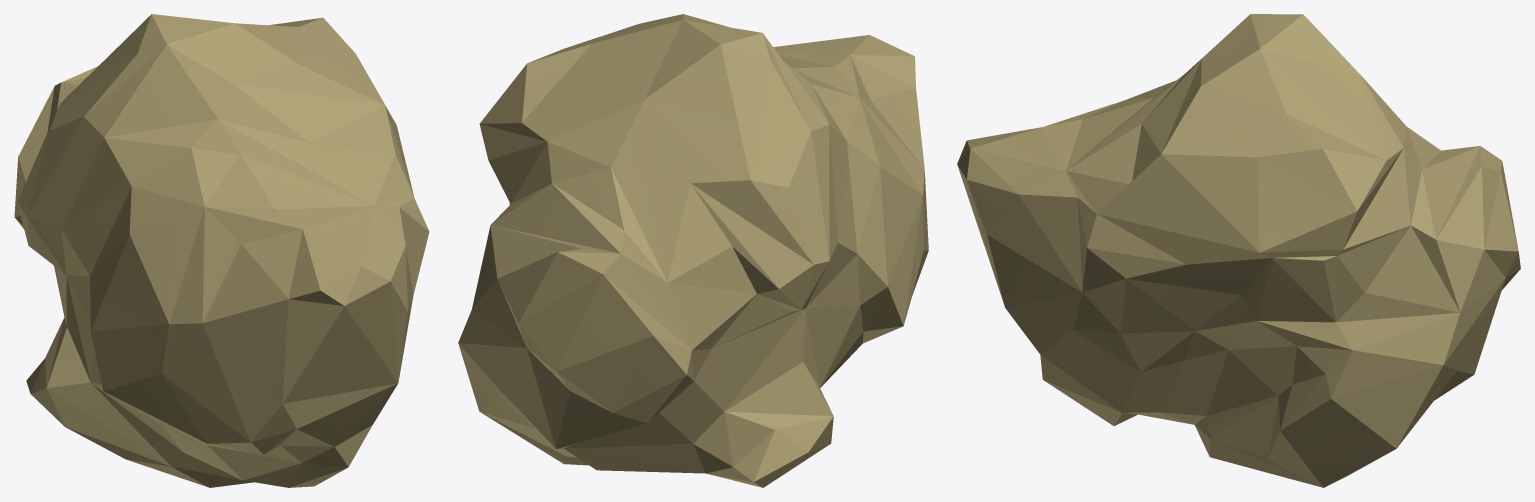
The model's file is SM_rock_53.fbx.
3 views of the same model, side by side, from view 1: azimuth 30°, elevation 25°; view 2: azimuth 150°, elevation 25°; view 3: azimuth 270°, elevation 25° (orthographic). The views are drawn at different scales.
Visible parts, largest first — view 1: rock_53; view 2: rock_53; view 3: rock_53.
Part boxes in pixels (box(x1,y1,x2,y2)): rock_53: box(14, 14, 429, 487); rock_53: box(458, 14, 928, 487); rock_53: box(957, 14, 1520, 487).
Bounding box in the file's own units: 303 × 386 × 470.
